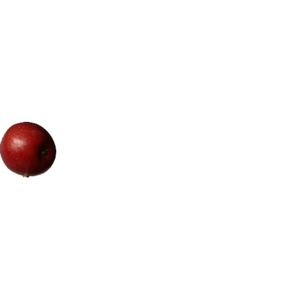maçã braeburn: (1, 119, 56, 179)
